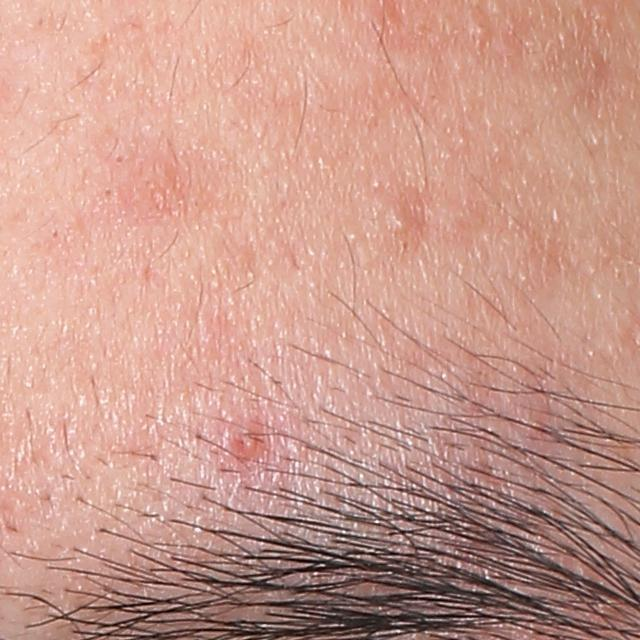comedo: (466, 19, 493, 43)
